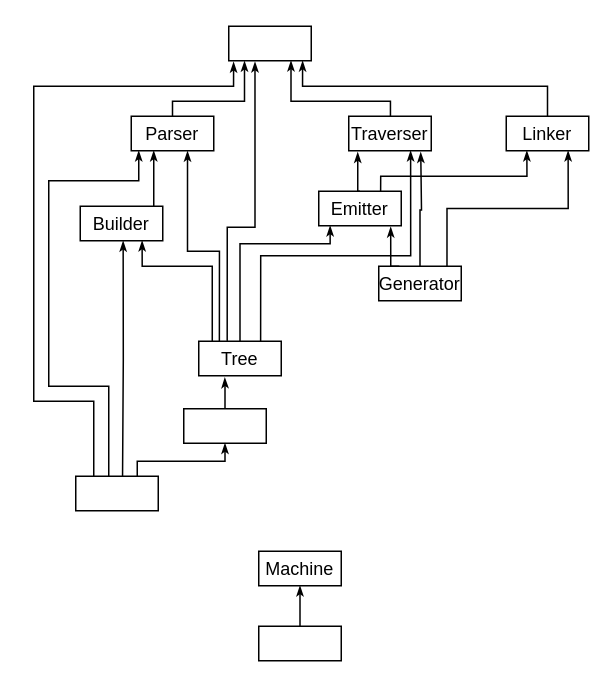
Some shapes in this 615 by 687 pixel diagram are drawn without their labels. The shapes that lost their labels are listed below. From the top down, each one's centre as x and y in pixels, then its label:
At point 269,43: "Moc".
At point 224,425: "Table".
At point 116,493: "Scanner".
At point 299,643: "MocErrors".
